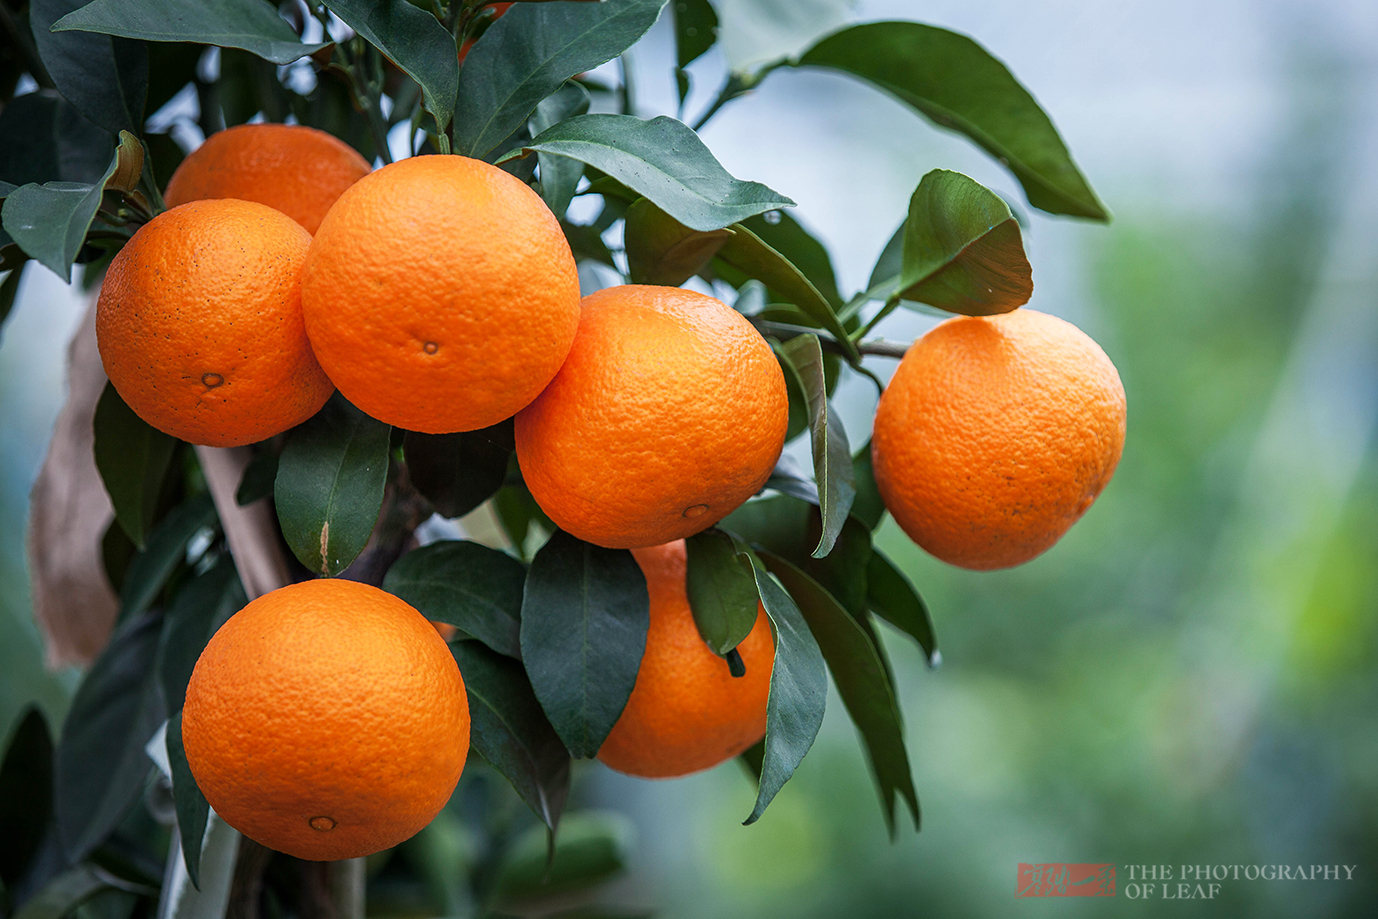orange: (181, 576, 467, 861), (297, 153, 575, 431), (512, 286, 791, 547), (876, 311, 1125, 569), (543, 530, 797, 782), (95, 199, 342, 449), (146, 127, 382, 288)
